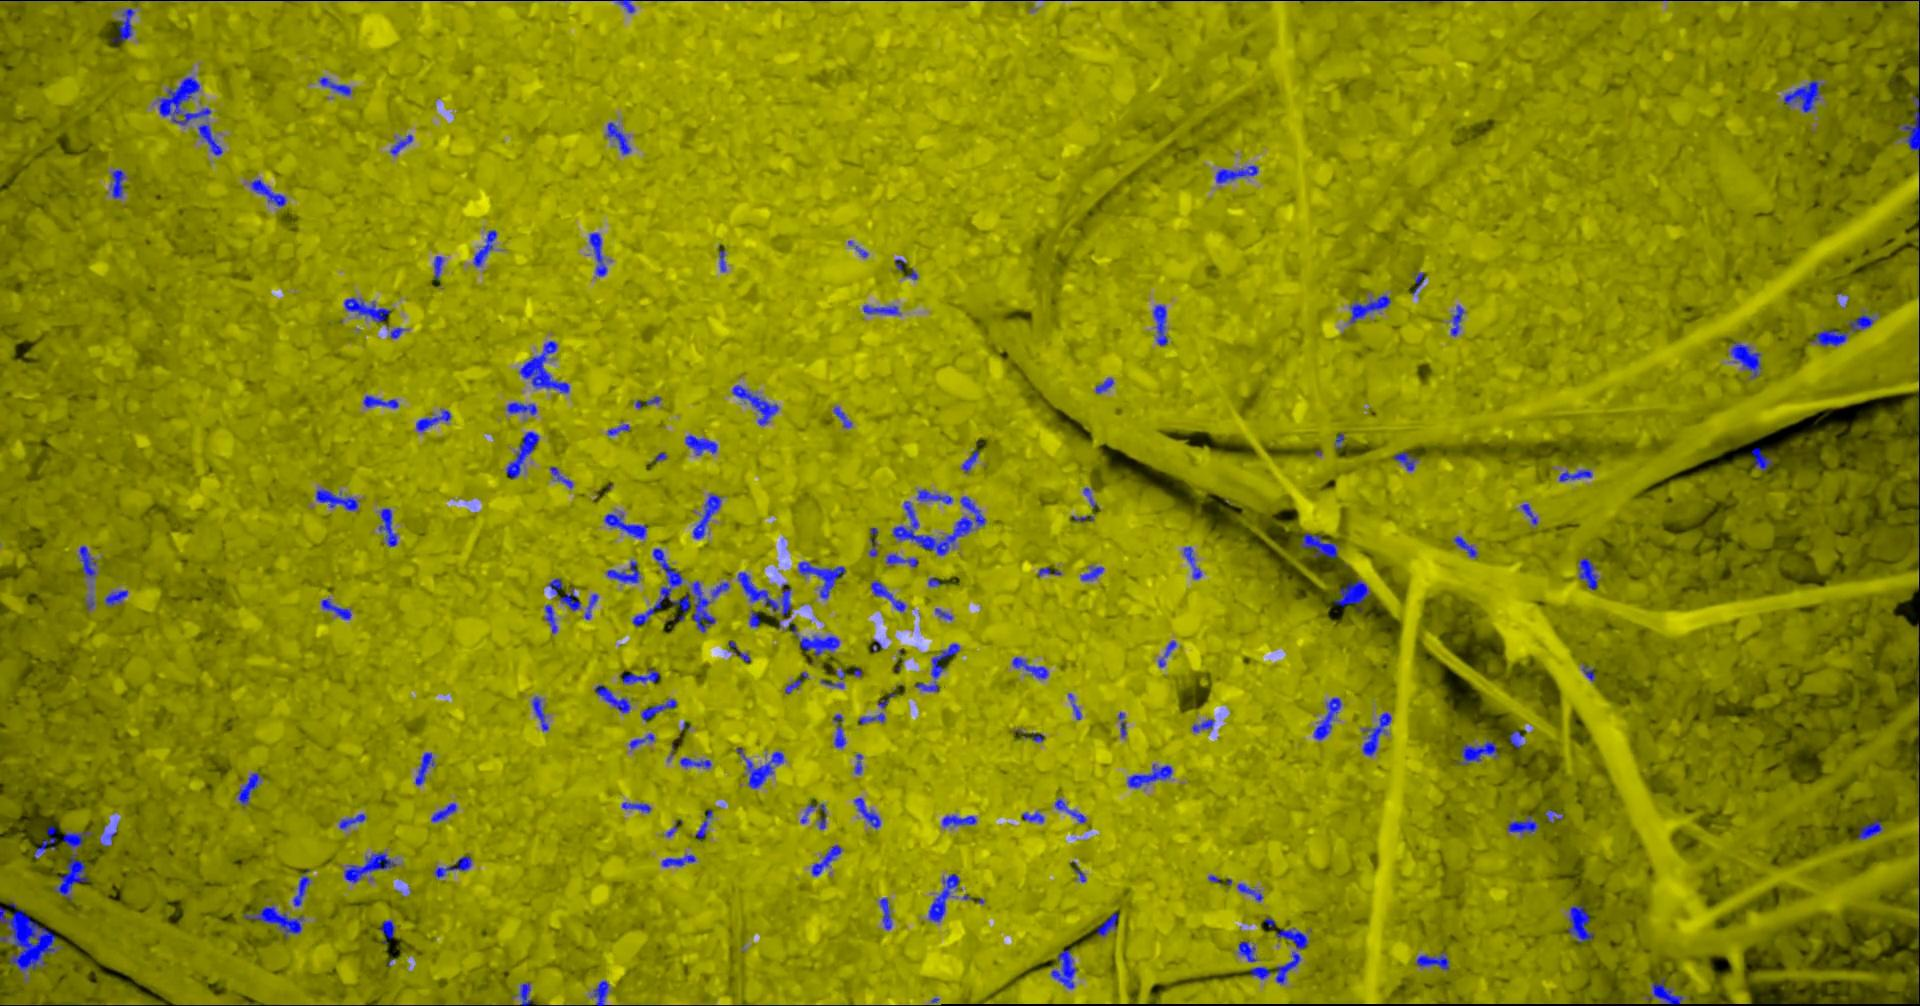ant: (518, 340, 569, 392), (55, 831, 91, 899), (157, 76, 210, 124), (737, 572, 790, 619), (914, 643, 959, 691), (243, 904, 303, 937), (731, 384, 778, 426), (737, 747, 783, 788), (1275, 927, 1307, 983), (786, 622, 839, 655), (797, 561, 844, 598), (505, 431, 538, 478), (343, 852, 395, 882), (928, 873, 959, 921), (1783, 79, 1822, 112), (1897, 95, 1919, 155), (692, 493, 720, 539), (343, 297, 390, 324), (1349, 293, 1390, 323), (1361, 713, 1390, 754), (1730, 340, 1761, 379), (1313, 697, 1341, 741), (1333, 578, 1370, 610), (603, 513, 648, 539), (870, 579, 905, 611), (1128, 763, 1172, 788), (594, 683, 630, 713), (1646, 977, 1683, 1005), (1457, 739, 1498, 763), (1050, 949, 1076, 988), (1299, 532, 1337, 558), (1567, 904, 1592, 942), (315, 488, 357, 511), (811, 843, 841, 875), (250, 179, 284, 206), (432, 855, 471, 878), (472, 229, 497, 265), (853, 796, 880, 828), (1011, 655, 1048, 678), (110, 8, 135, 42), (604, 122, 630, 154), (197, 123, 222, 155), (588, 232, 606, 276), (640, 699, 676, 720), (1054, 798, 1086, 822), (32, 826, 56, 857), (237, 772, 260, 805), (1215, 165, 1257, 183), (415, 409, 450, 431), (378, 508, 397, 546), (606, 560, 639, 582), (684, 434, 717, 455), (414, 752, 434, 785), (1152, 304, 1167, 345), (317, 76, 350, 95), (621, 667, 659, 683), (320, 598, 350, 619), (531, 696, 549, 730), (1415, 951, 1449, 969), (293, 869, 310, 906), (1578, 558, 1597, 589), (1183, 546, 1201, 579), (1813, 329, 1848, 345), (79, 545, 95, 579), (1506, 815, 1538, 833), (1857, 818, 1882, 840), (695, 809, 712, 840), (1848, 312, 1876, 332), (1453, 535, 1476, 558), (1096, 912, 1117, 936), (916, 489, 952, 503), (549, 466, 571, 488), (559, 587, 580, 610), (728, 640, 750, 662), (1751, 446, 1771, 470), (1392, 451, 1417, 470), (1157, 640, 1176, 666), (430, 801, 456, 821), (1237, 883, 1263, 901), (389, 133, 411, 154), (820, 669, 844, 688), (338, 813, 364, 829), (363, 395, 397, 408), (590, 981, 608, 1005), (505, 401, 536, 415), (1558, 469, 1591, 481), (832, 714, 844, 747), (662, 854, 695, 866), (110, 169, 124, 198), (941, 814, 977, 826), (1450, 305, 1463, 337), (885, 554, 917, 567), (879, 897, 891, 929), (543, 605, 557, 633), (862, 304, 900, 314), (629, 733, 654, 748), (1237, 941, 1256, 962), (961, 450, 978, 473), (104, 589, 127, 606), (378, 920, 394, 944), (679, 757, 711, 768), (833, 406, 851, 427), (1520, 503, 1537, 525), (584, 593, 598, 619), (1067, 694, 1081, 719), (1079, 567, 1103, 580), (635, 395, 660, 408), (517, 982, 531, 1005), (710, 582, 729, 598), (621, 801, 650, 812), (858, 713, 884, 724), (1412, 272, 1425, 293), (1191, 719, 1213, 732), (1250, 967, 1271, 979), (1095, 377, 1112, 392), (869, 527, 877, 558), (611, 0, 634, 11), (547, 578, 563, 594), (783, 680, 801, 694), (607, 423, 629, 434), (1021, 810, 1043, 822), (433, 255, 443, 279), (1021, 730, 1044, 741), (1509, 730, 1523, 747), (1117, 711, 1126, 737), (1544, 809, 1562, 822), (1581, 664, 1595, 680), (1037, 567, 1060, 575), (818, 803, 825, 829), (748, 610, 759, 626), (717, 249, 725, 271), (389, 326, 403, 338), (855, 753, 862, 774), (1335, 432, 1343, 448)
